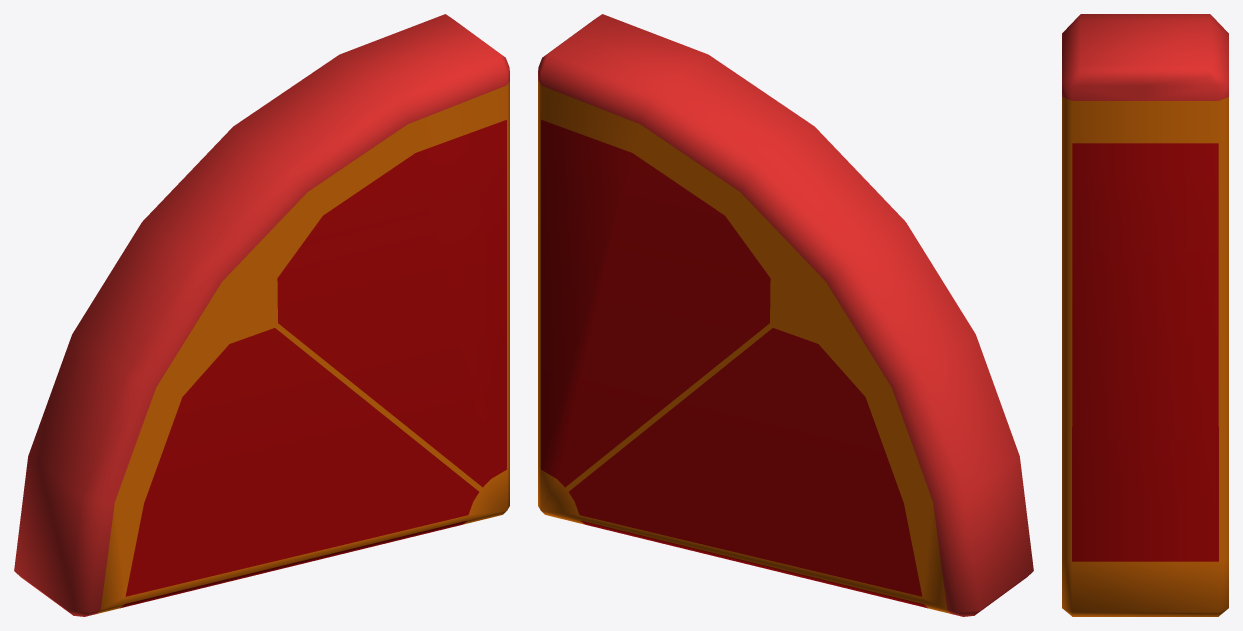
File: Quarter_of_a_orange_red.fbx
3 renders of one model, left to right at view 1: azimuth 30°, elevation 25°; view 2: azimuth 150°, elevation 25°; view 3: azimuth 270°, elevation 25°, orthographic. The views are drawn at different scales.
Parts seen in each view (by area): view 1: Quarter_of_a_orange_red; view 2: Quarter_of_a_orange_red; view 3: Quarter_of_a_orange_red.
Part boxes in pixels (x1,y1,x2,y2): Quarter_of_a_orange_red: (14, 14, 509, 616); Quarter_of_a_orange_red: (538, 14, 1033, 616); Quarter_of_a_orange_red: (1062, 14, 1228, 616).
Bounding box in the file's own units: 62.68 × 62.72 × 17.19.
